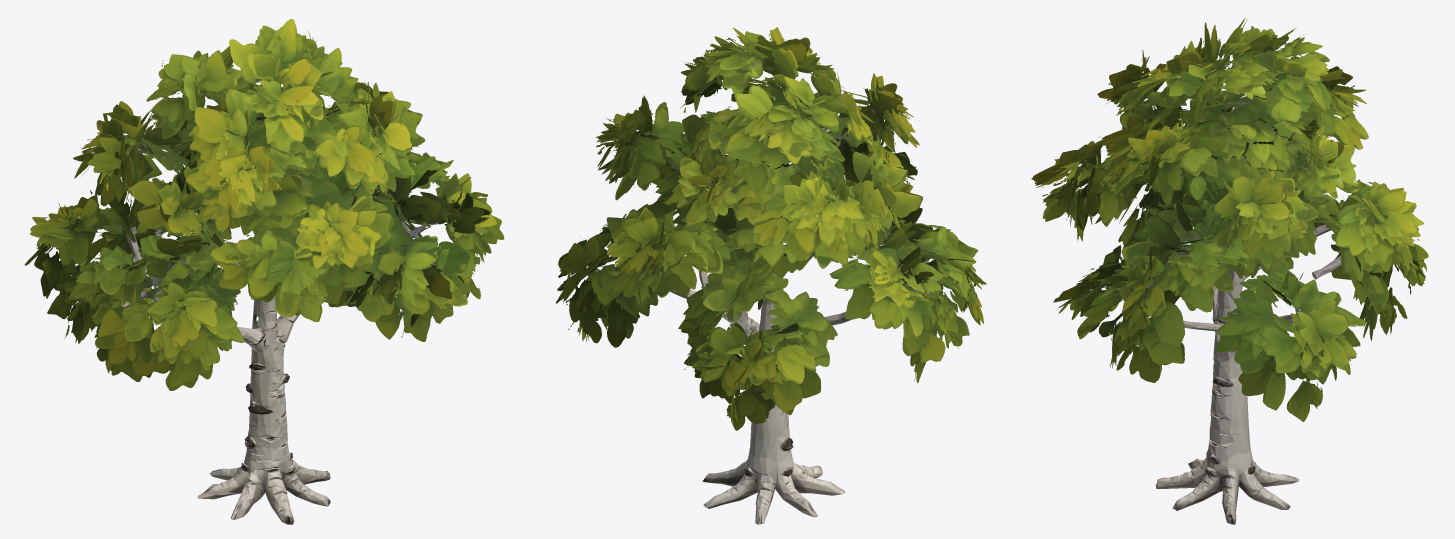
File: agac_hus.glb
3 views of the same model, side by side, from view 1: azimuth 30°, elevation 25°; view 2: azimuth 150°, elevation 25°; view 3: azimuth 270°, elevation 25° (orthographic).
Visible parts, largest first — view 1: agac_hus; view 2: agac_hus; view 3: agac_hus.
Part boxes in pixels (bbox=[...]): agac_hus: bbox=[25, 19, 504, 524]; agac_hus: bbox=[556, 27, 986, 524]; agac_hus: bbox=[1031, 18, 1428, 524].
Bounding box in the file's own units: 4.76 × 5.23 × 4.18.
2 materials, 2 textured.
